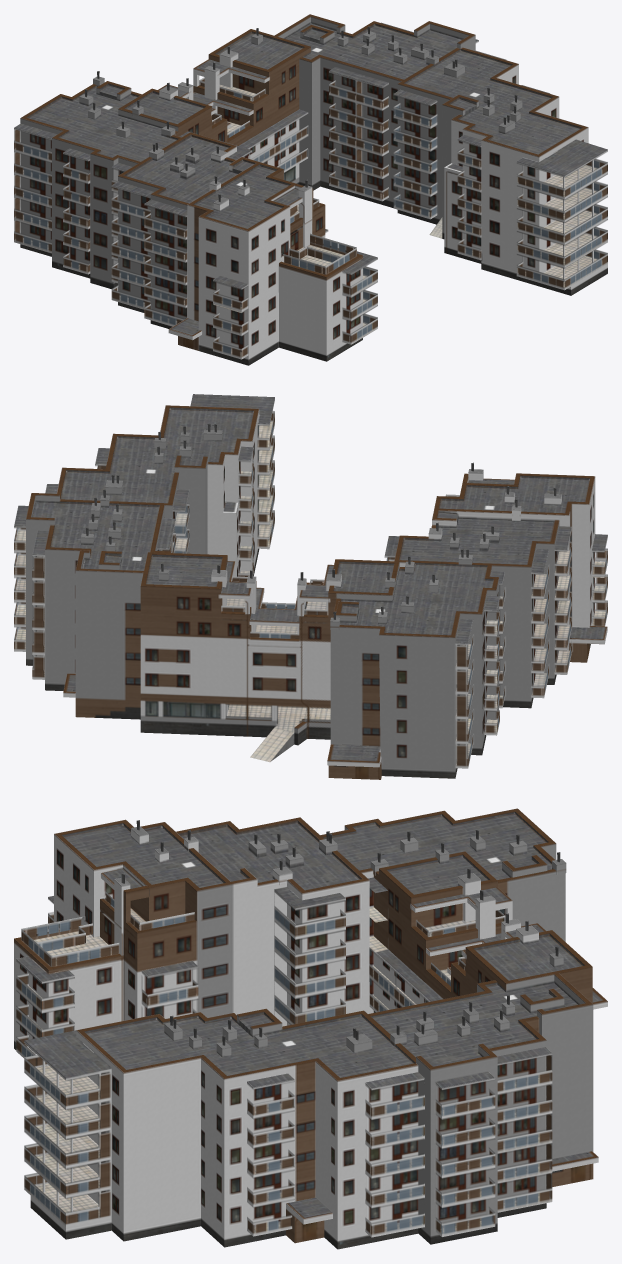
Rendered from imovel.glb.
3 renders of one model, top to bottom at view 1: azimuth 30°, elevation 25°; view 2: azimuth 150°, elevation 25°; view 3: azimuth 270°, elevation 25°, orthographic. The views are drawn at different scales.
Parts seen in each view (by area): view 1: _463e62b043b4484b5ae6a4f26501733_obj_cleaner_materialmerger_; view 2: _463e62b043b4484b5ae6a4f26501733_obj_cleaner_materialmerger_; view 3: _463e62b043b4484b5ae6a4f26501733_obj_cleaner_materialmerger_.
Boxes of the visible parts, x1,y1,x2,y2 form: _463e62b043b4484b5ae6a4f26501733_obj_cleaner_materialmerger_: [14, 14, 607, 365]; _463e62b043b4484b5ae6a4f26501733_obj_cleaner_materialmerger_: [14, 394, 607, 779]; _463e62b043b4484b5ae6a4f26501733_obj_cleaner_materialmerger_: [14, 808, 607, 1249].
Size of the model in its own units: 9.46 by 3 by 8.48.
1 material, 1 textured.
